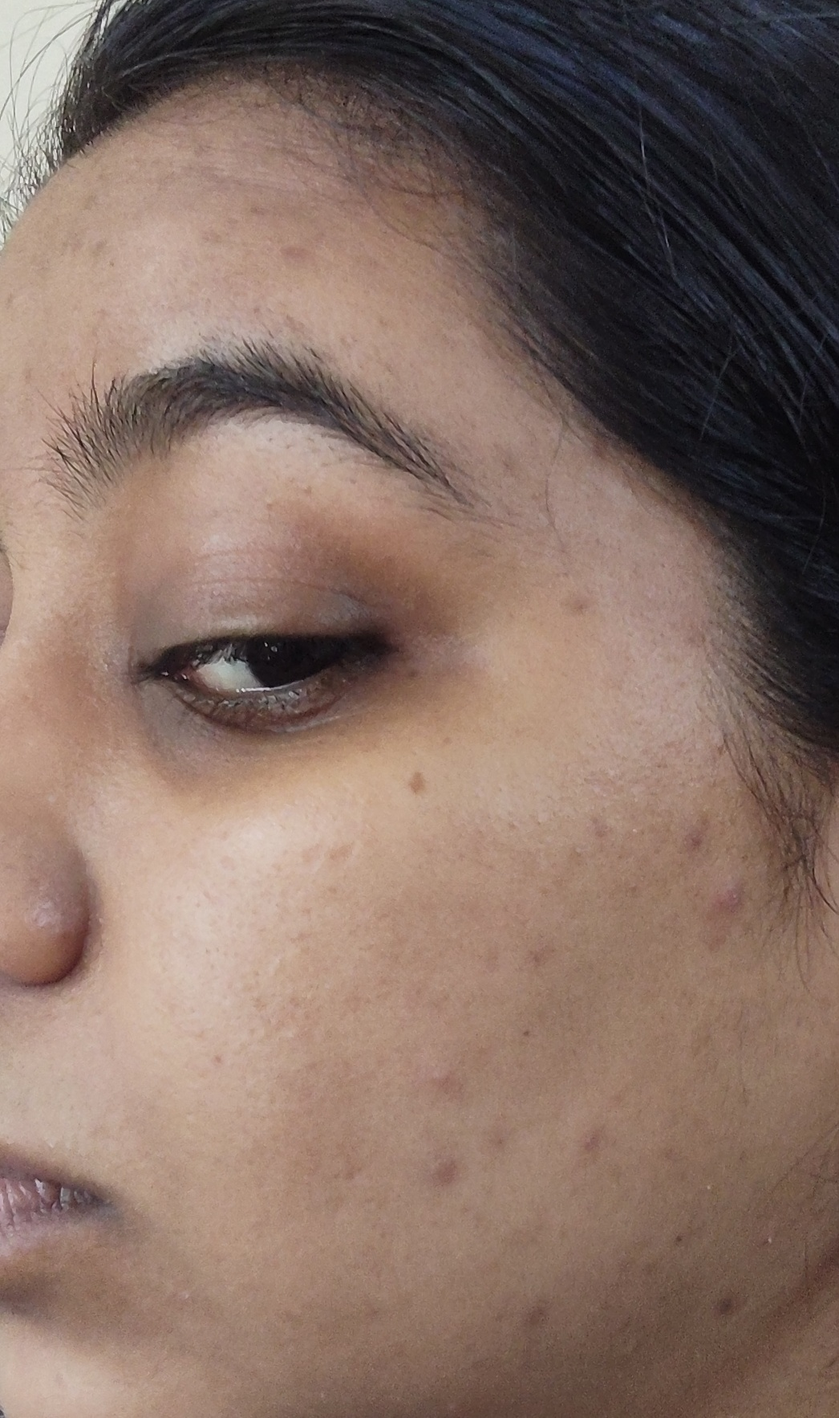papule: (698, 861, 782, 945), (270, 201, 338, 302), (174, 208, 251, 283), (567, 1107, 635, 1179), (410, 1046, 473, 1114), (408, 1146, 487, 1200), (658, 805, 723, 863)
